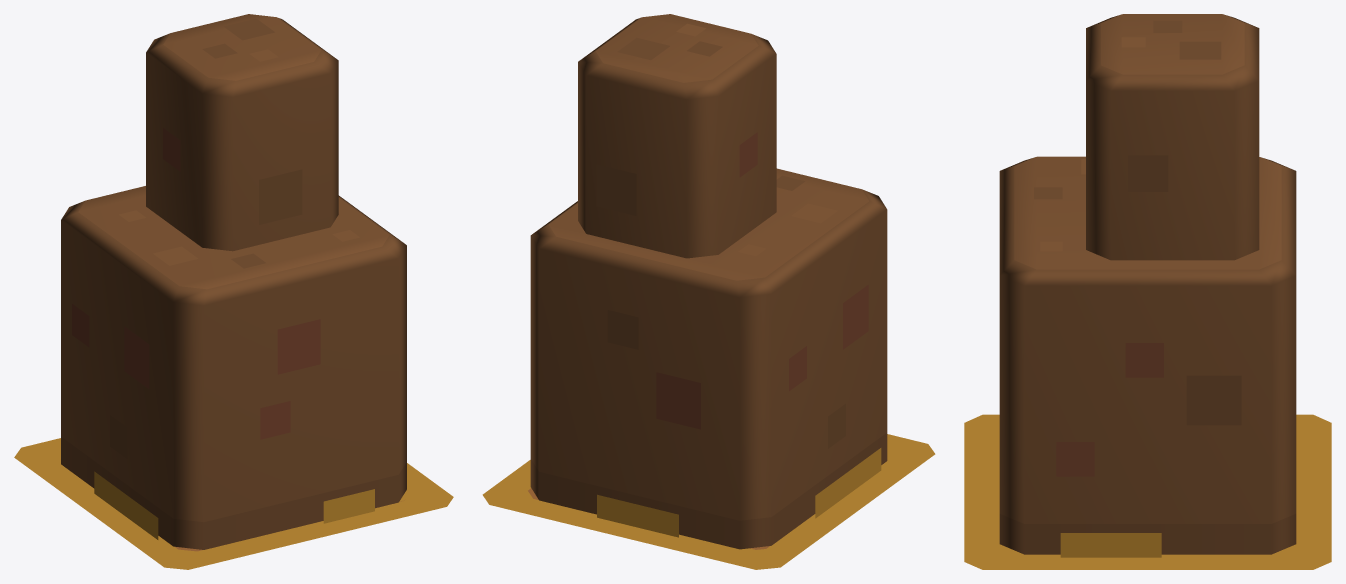
The model's file is B_mountain1_rock00.fbx.
3 views of the same model, side by side, from view 1: azimuth 30°, elevation 25°; view 2: azimuth 150°, elevation 25°; view 3: azimuth 270°, elevation 25° (orthographic). The views are drawn at different scales.
Visible parts, largest first — view 1: model 1, model; view 2: model 1, model; view 3: model 1, model.
Part boxes in pixels (box(x1,y1,x2,y2)): model 1: box(14, 14, 452, 569); model: box(14, 438, 453, 569); model 1: box(483, 14, 934, 569); model: box(482, 434, 935, 569); model 1: box(964, 14, 1331, 569); model: box(964, 414, 1331, 569).
Bounding box in the file's own units: 1.86 × 2.59 × 1.86.
